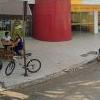bicycles: (4, 52, 42, 78)
